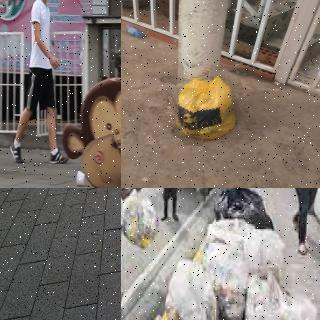Garbage: (201, 218, 286, 320), (169, 72, 242, 145), (244, 269, 320, 320), (162, 255, 220, 320), (216, 188, 273, 234), (121, 188, 161, 246)
